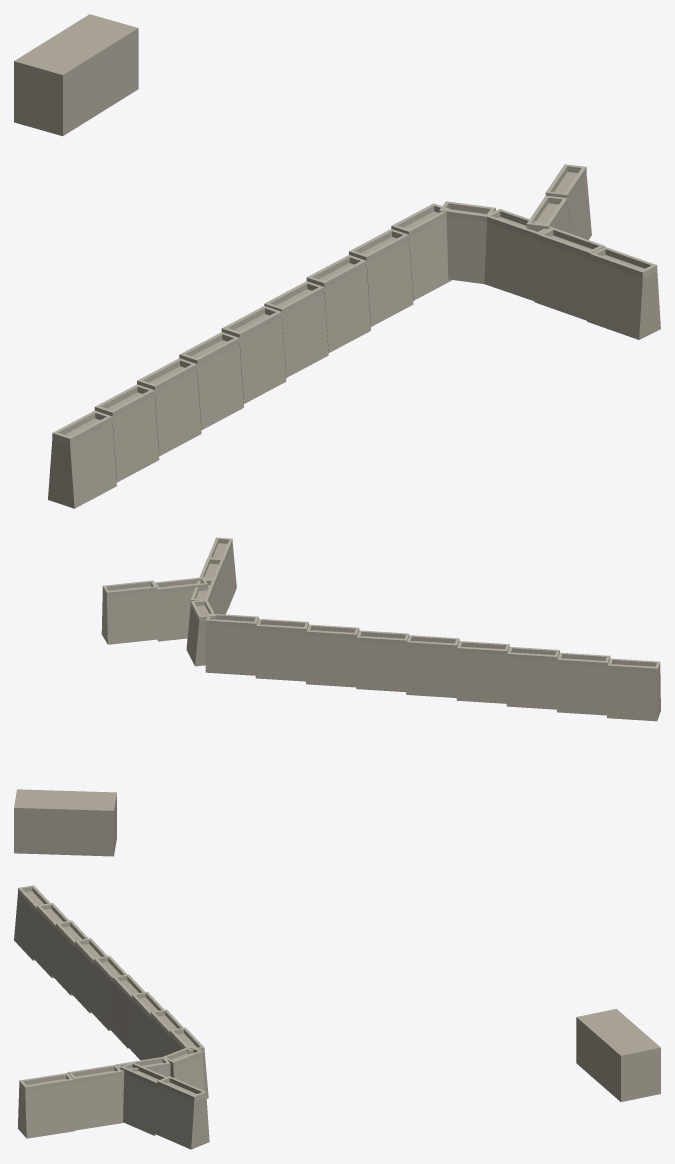
The model's file is bormla_62_32_collision.glb.
3 renders of one model, top to bottom at view 1: azimuth 30°, elevation 25°; view 2: azimuth 150°, elevation 25°; view 3: azimuth 270°, elevation 25°, orthographic. The views are drawn at different scales.
Visible parts, largest first — view 1: geometry_0; view 2: geometry_0; view 3: geometry_0.
Part boxes in pixels (x1,y1,x2,y2): geometry_0: [14, 14, 660, 508]; geometry_0: [14, 537, 660, 856]; geometry_0: [14, 885, 660, 1149].
Bounding box in the file's own units: 131 × 19.64 × 150.
